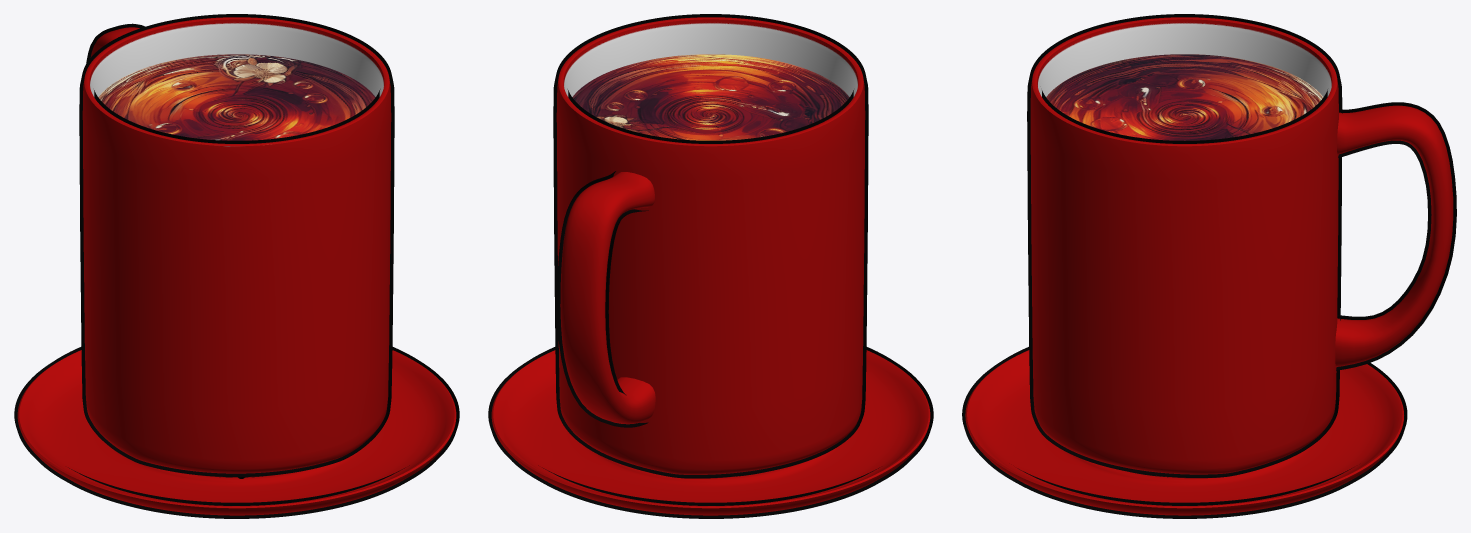
The model's file is red_glass_of_tea.glb.
3 views of the same model, side by side, from view 1: azimuth 30°, elevation 25°; view 2: azimuth 150°, elevation 25°; view 3: azimuth 270°, elevation 25° (orthographic).
Parts seen in each view (by area): view 1: Circle; view 2: Circle; view 3: Circle.
Boxes of the visible parts, x1=… form: Circle: x1=14, y1=14, x2=459, y2=518; Circle: x1=488, y1=14, x2=933, y2=518; Circle: x1=962, y1=14, x2=1456, y2=518.
Size of the model in its own units: 0.1294 by 0.1147 by 0.1438.
4 materials, 4 textured.
